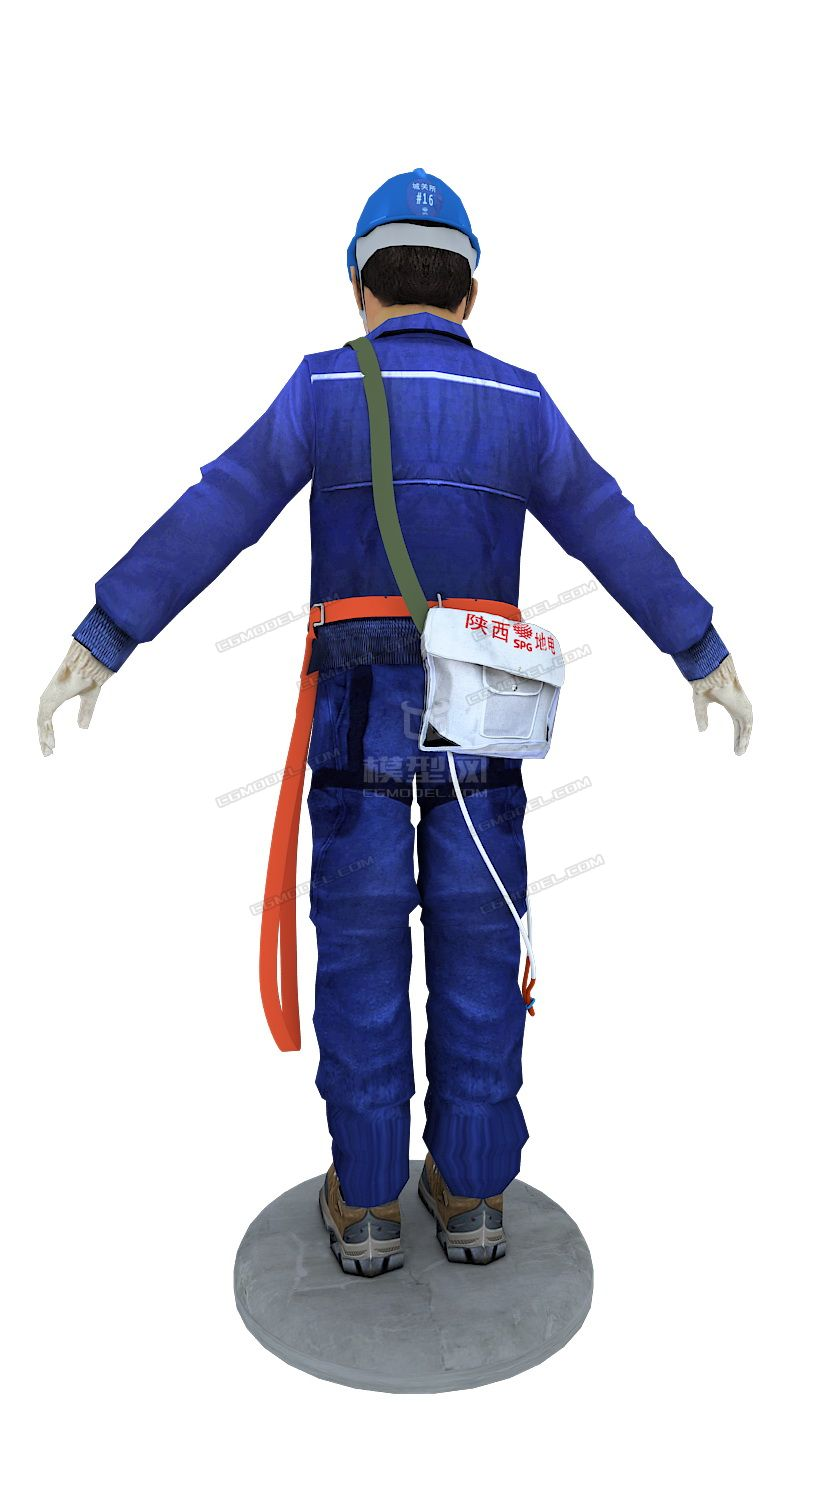safetyhat: (83, 90, 812, 1280)
